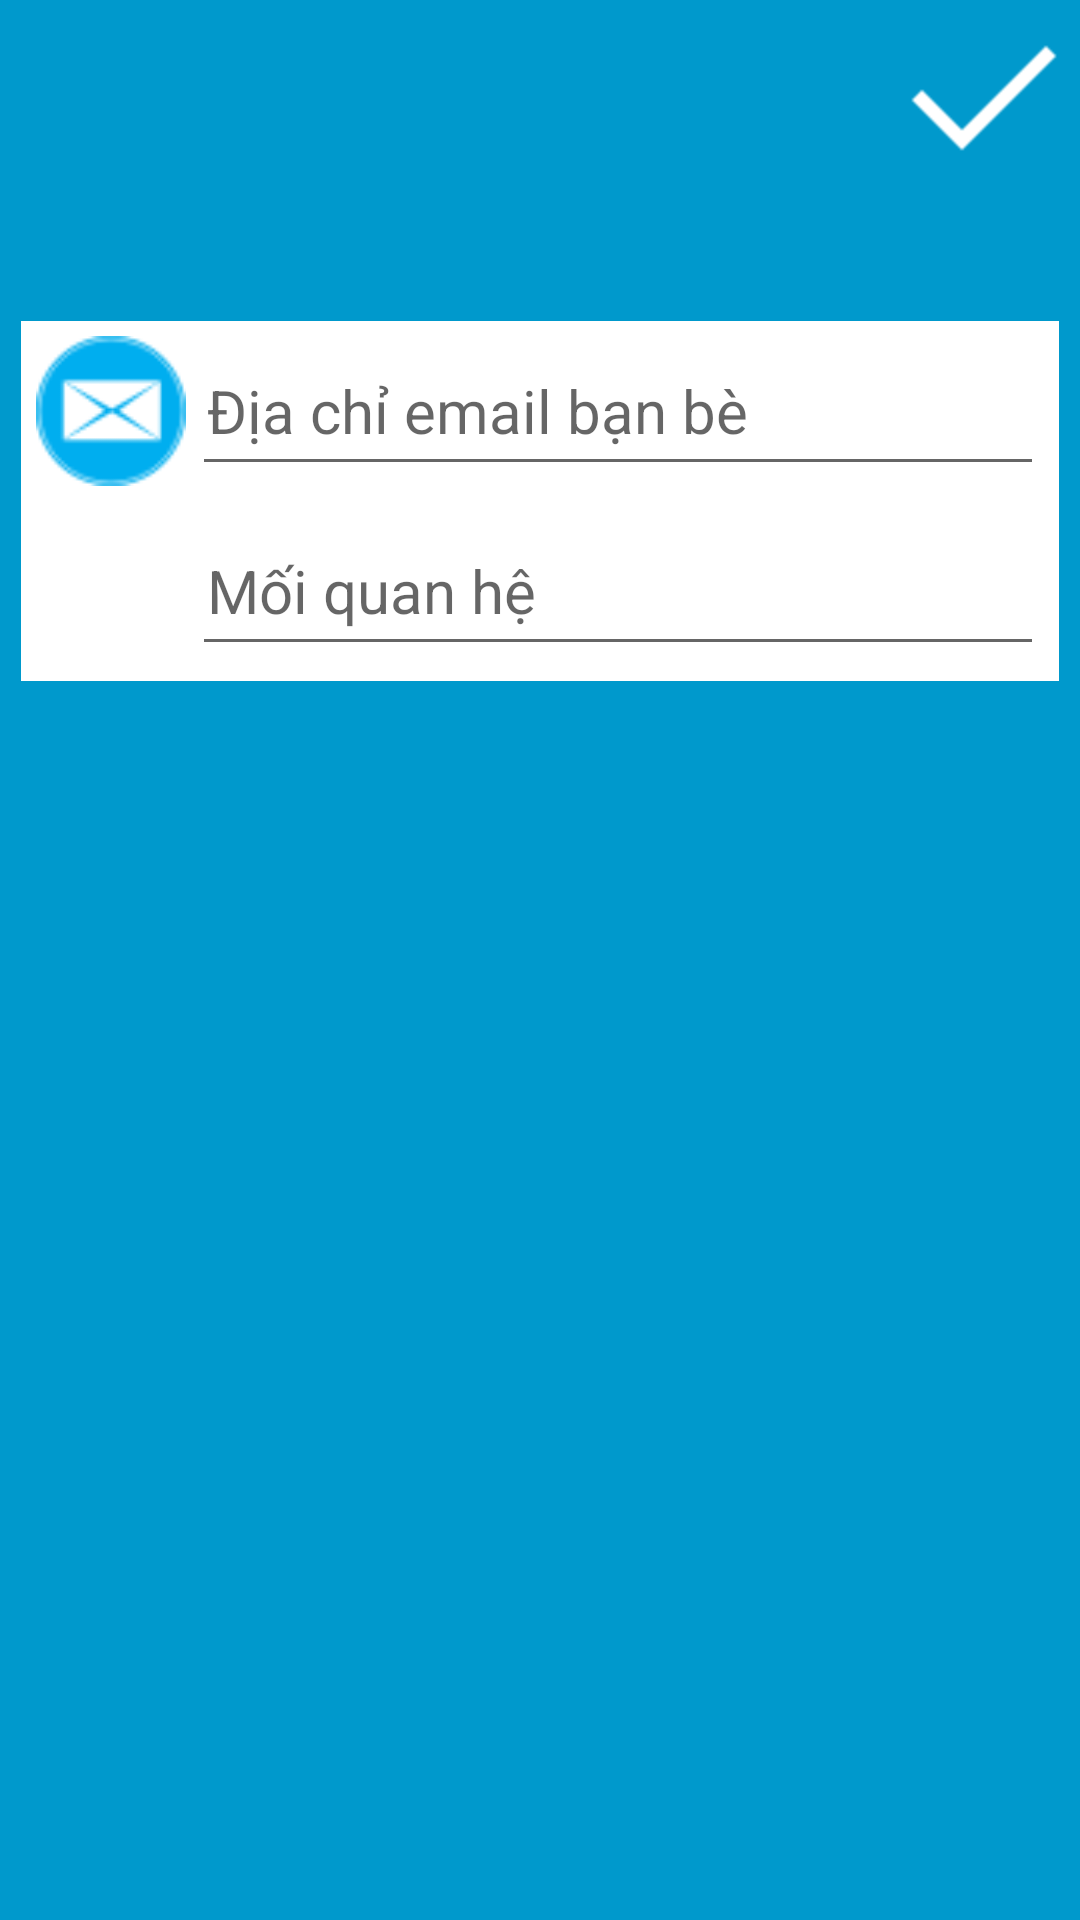

Screen size 1080*1920. Icon name, then its center in pixels as point (x, y):
Hoàn tất: point (984, 98)
